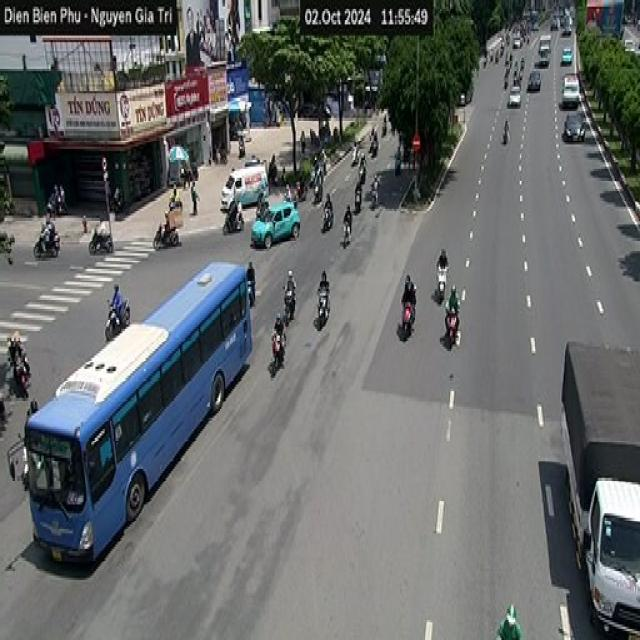bus: (18, 260, 257, 573)
car: (252, 207, 305, 246), (220, 168, 269, 204), (564, 112, 585, 145), (528, 68, 542, 96), (509, 80, 521, 108), (563, 46, 576, 66)
motorcycle: (398, 300, 417, 344), (104, 305, 134, 329), (271, 336, 287, 378), (446, 304, 460, 352), (14, 359, 29, 398), (314, 290, 330, 326), (437, 262, 448, 298), (321, 202, 332, 236), (284, 285, 294, 320), (246, 277, 258, 306), (342, 220, 352, 249)
person: (499, 598, 525, 640), (403, 262, 419, 312), (448, 282, 464, 322), (272, 306, 286, 350), (190, 177, 203, 219), (7, 334, 20, 374), (285, 262, 297, 304), (113, 280, 124, 324), (437, 238, 449, 277), (320, 263, 331, 300), (326, 180, 336, 219), (343, 200, 354, 234), (45, 213, 54, 249), (248, 255, 256, 285), (98, 216, 106, 242)
truck: (562, 334, 640, 633), (562, 71, 582, 108), (537, 34, 553, 66)
